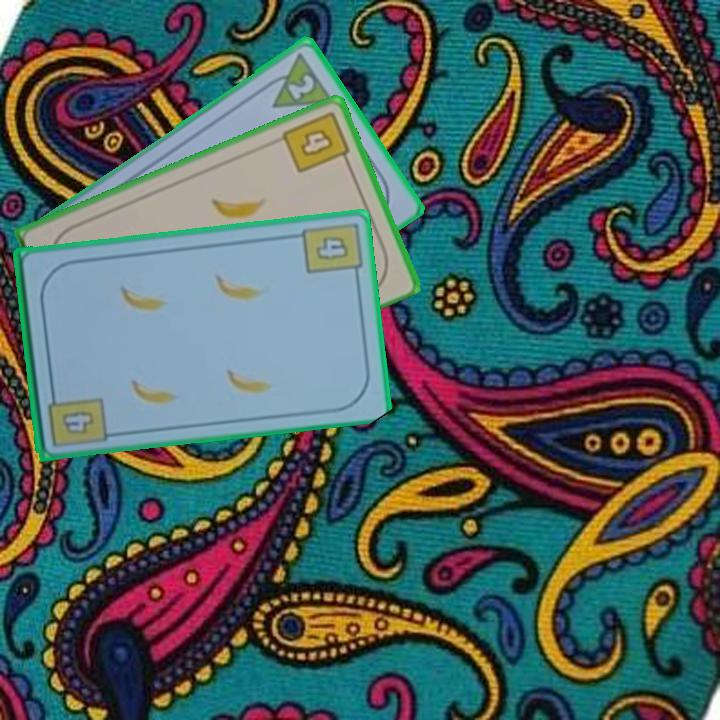2p: (283, 70, 318, 103)
4b: (278, 107, 354, 176), (297, 218, 363, 282), (58, 406, 98, 437)
